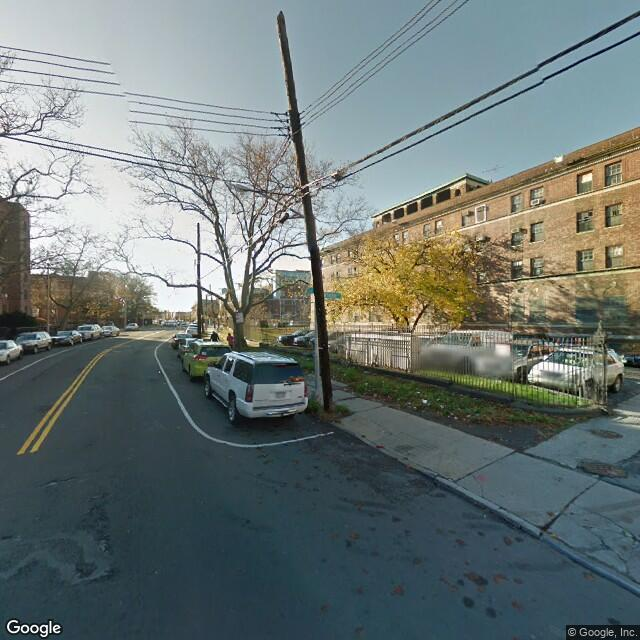litter: (422, 398, 428, 402), (157, 369, 160, 372)
